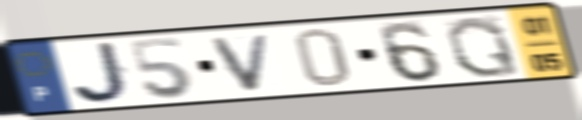0: (291, 26, 355, 90)
5: (125, 34, 198, 103)
6: (376, 18, 444, 85)
J: (69, 39, 136, 106)
Q: (443, 14, 524, 80)
V: (207, 31, 275, 94)
